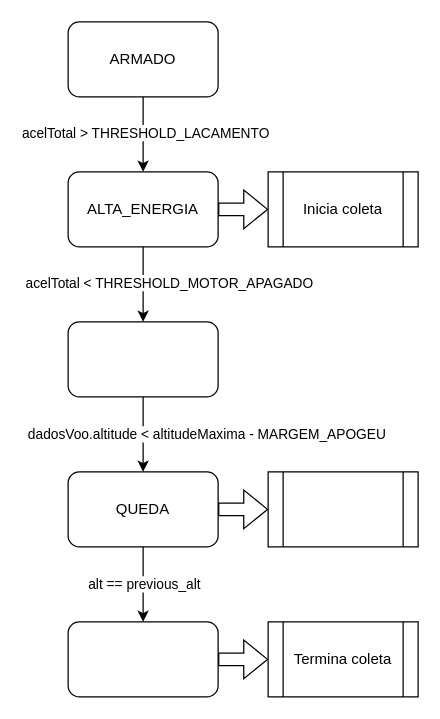
Some shapes in this 440 by 719 pixel diagram are drawn without their labels. Each missing label, with the centre of its shape:
ATERRISSADO: the point at 142,659
Ativa ejeção: the point at 342,509
BAIXA_ENERGIA: the point at 142,359
